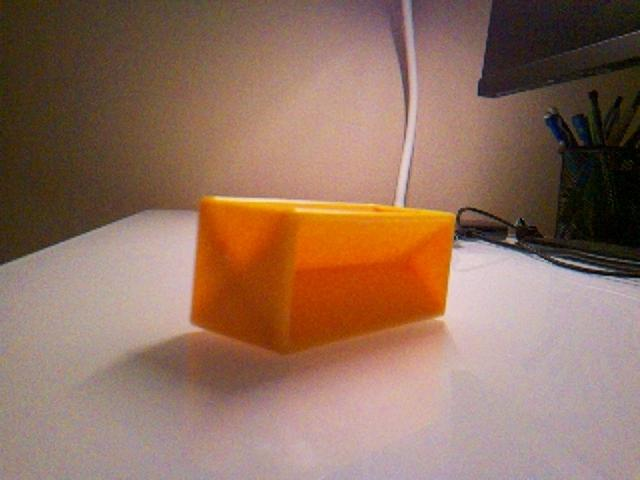yellow: (189, 193, 457, 355)
